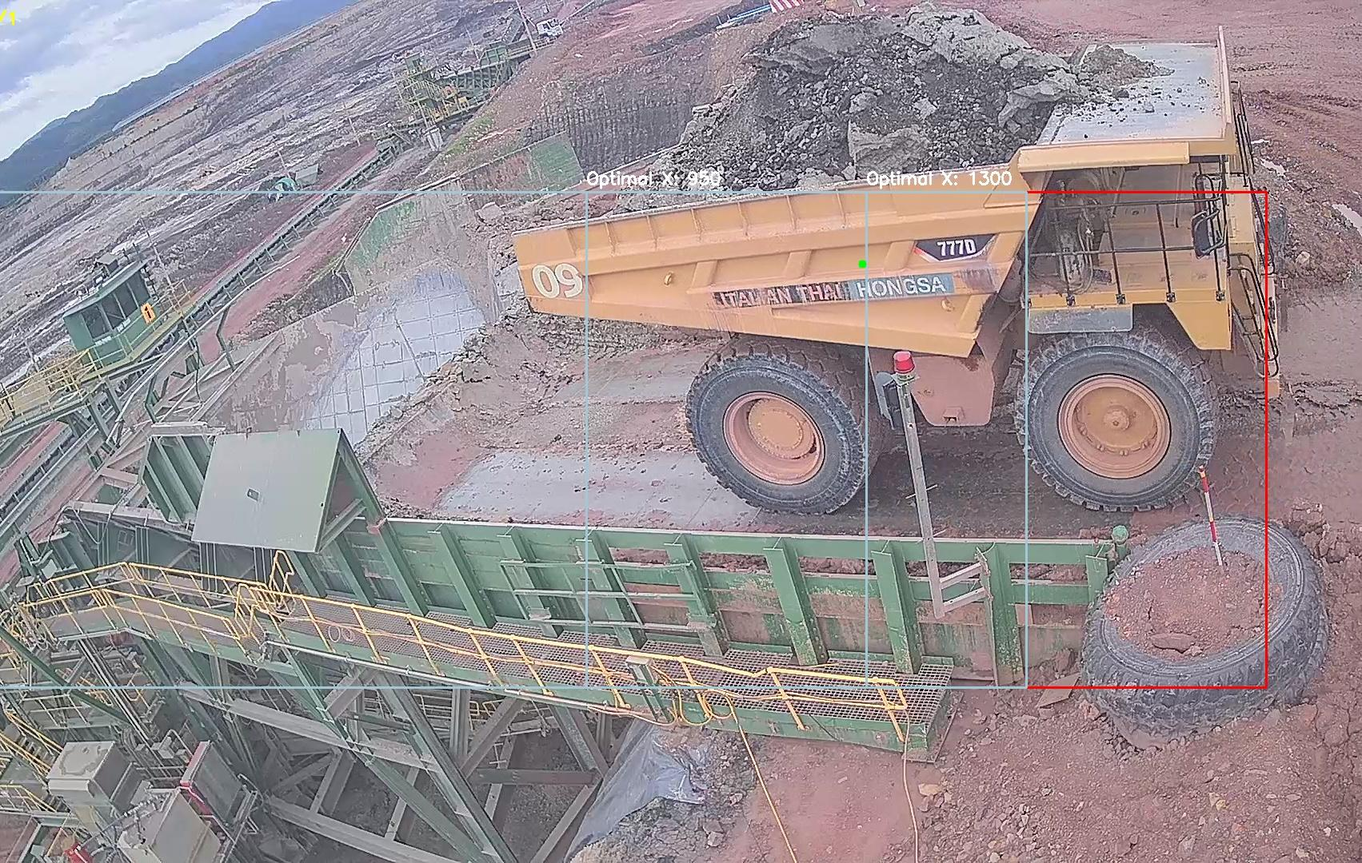company: (714, 265, 964, 309)
full_load: (728, 11, 1063, 196)
mining_truck: (505, 3, 1299, 521)
tail_number: (522, 255, 592, 308)
truck_size: (908, 227, 1000, 268)
